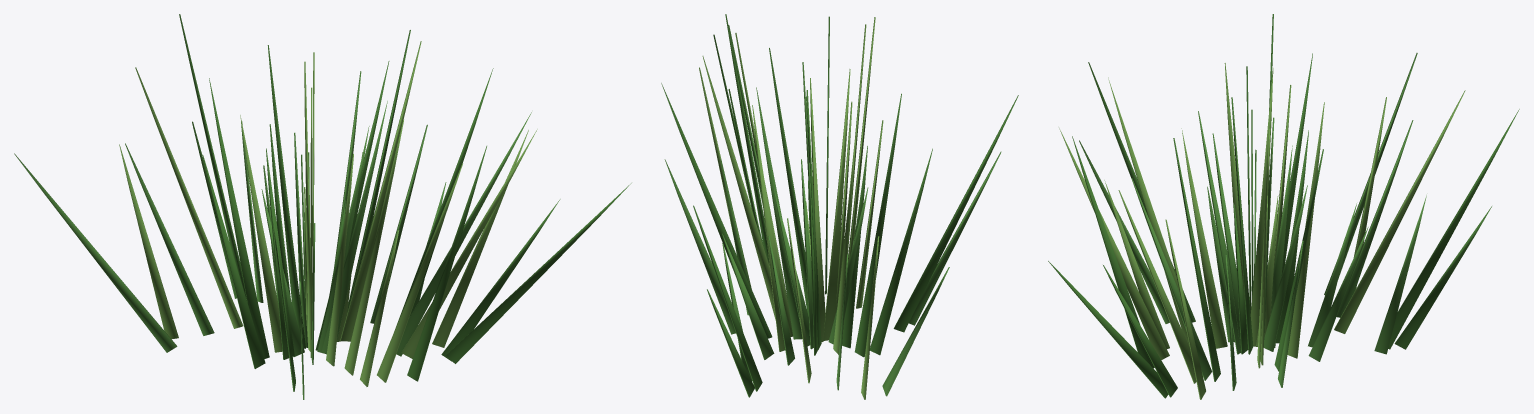
Rendered from bui_co.glb.
The picture shows the model from 3 angles, left to right: view 1: azimuth 30°, elevation 25°; view 2: azimuth 150°, elevation 25°; view 3: azimuth 270°, elevation 25°; orthographic projection. The views are drawn at different scales.
Parts seen in each view (by area): view 1: bui_co; view 2: bui_co; view 3: bui_co.
Boxes of the visible parts, bbox=[...] form: bui_co: bbox=[14, 14, 631, 399]; bui_co: bbox=[661, 14, 1018, 399]; bui_co: bbox=[1048, 14, 1519, 399].
Size of the model in its own units: 0.5423 by 0.3505 by 0.5148.
